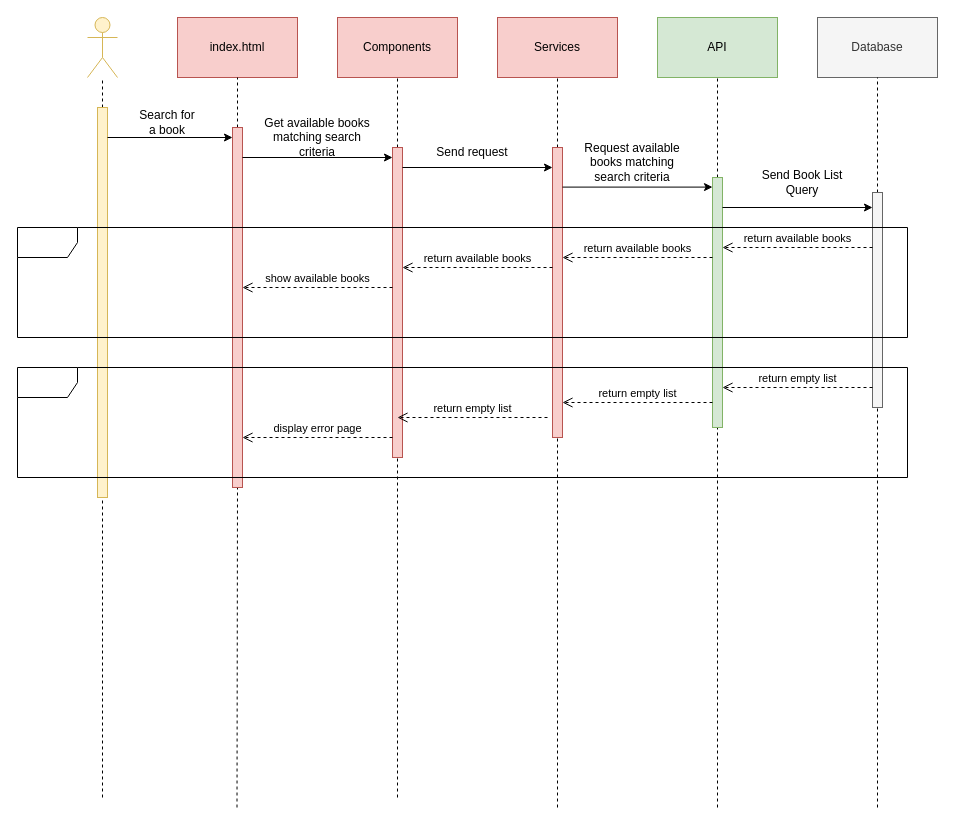
This 955x826 diagram has some shape labels left out. The shapes that lost their labels are listed below. From the top down, each one's centre as x and y in pixels, then its label:
At [462,282]: "Books match search".
At [462,422]: "No matching books".
